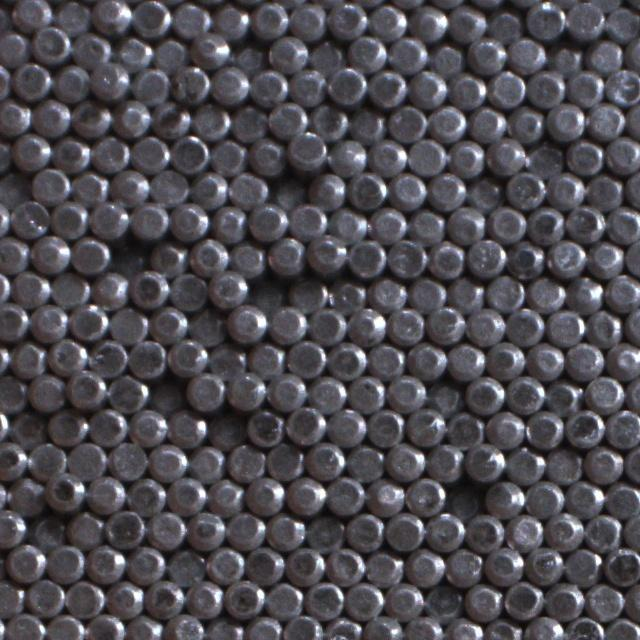tool: (90, 59, 130, 100), (307, 233, 347, 274), (483, 545, 523, 585), (130, 132, 170, 172), (126, 544, 166, 584), (106, 508, 146, 548), (108, 372, 148, 412), (424, 440, 464, 480), (502, 580, 542, 620), (326, 64, 366, 104), (66, 368, 106, 408), (225, 369, 265, 409), (168, 270, 208, 310), (69, 300, 109, 340), (484, 477, 524, 517), (46, 470, 85, 511), (466, 236, 505, 276), (128, 407, 168, 446), (564, 407, 604, 446), (7, 541, 46, 581), (405, 546, 444, 586), (109, 304, 148, 344), (406, 406, 445, 446), (286, 404, 325, 444), (465, 511, 504, 551), (328, 136, 367, 176), (524, 545, 564, 584), (465, 442, 504, 482), (70, 235, 110, 274), (88, 406, 127, 446), (526, 205, 566, 244), (266, 511, 305, 551), (525, 408, 564, 448), (32, 24, 71, 64), (304, 580, 343, 620), (245, 407, 285, 446), (584, 372, 624, 411), (285, 475, 325, 514), (464, 374, 504, 413), (31, 96, 70, 136), (347, 170, 387, 209), (26, 576, 65, 616), (365, 476, 404, 516), (308, 303, 347, 343), (326, 474, 365, 514), (145, 578, 184, 618), (184, 578, 223, 618), (346, 373, 386, 412), (505, 168, 544, 208), (27, 370, 66, 410), (128, 338, 168, 377), (225, 577, 264, 617), (126, 475, 166, 514), (309, 100, 348, 140), (404, 475, 444, 514), (446, 409, 485, 449), (168, 201, 208, 240), (64, 579, 104, 618), (446, 4, 485, 44), (245, 545, 285, 584), (5, 475, 45, 514), (387, 238, 426, 277), (385, 441, 424, 480), (227, 303, 266, 342), (487, 203, 526, 242), (287, 337, 326, 376), (385, 511, 424, 550), (30, 233, 69, 272), (225, 509, 264, 548), (229, 103, 268, 142), (327, 406, 366, 445), (208, 267, 247, 306), (526, 67, 565, 106), (226, 442, 265, 481), (408, 67, 447, 106), (486, 409, 525, 448), (288, 131, 327, 170), (426, 304, 465, 343), (327, 0, 366, 39), (326, 340, 365, 379), (367, 67, 406, 106), (51, 62, 90, 101), (147, 509, 186, 548), (348, 238, 387, 277), (248, 201, 287, 240), (47, 407, 86, 446), (348, 33, 387, 72), (171, 134, 210, 173), (129, 268, 168, 307), (249, 66, 288, 105), (565, 478, 604, 517), (505, 374, 544, 413), (86, 473, 125, 512), (307, 170, 346, 209), (343, 580, 382, 619), (29, 300, 68, 339), (544, 582, 583, 621), (246, 340, 285, 379), (71, 98, 110, 137), (89, 337, 128, 376), (464, 306, 504, 344), (12, 59, 50, 99), (584, 444, 622, 484), (132, 64, 170, 104), (444, 546, 482, 586), (426, 511, 464, 551), (586, 238, 624, 278), (546, 236, 584, 276), (366, 340, 404, 380), (486, 339, 524, 379), (267, 235, 305, 275), (172, 63, 210, 103), (306, 439, 344, 479), (368, 136, 406, 176), (346, 510, 384, 550), (385, 580, 423, 620), (244, 474, 282, 514), (150, 166, 188, 206), (506, 238, 544, 278), (68, 439, 106, 479), (266, 440, 304, 480), (328, 274, 368, 312), (28, 440, 66, 480), (564, 545, 602, 584), (566, 66, 604, 105), (86, 543, 124, 582), (32, 164, 70, 203), (467, 34, 505, 73), (366, 408, 404, 447), (388, 103, 426, 142), (365, 547, 403, 586), (565, 340, 603, 379), (210, 64, 248, 103), (388, 34, 427, 72), (544, 511, 582, 550), (407, 136, 446, 174), (288, 1, 326, 40), (111, 166, 149, 205), (288, 65, 326, 104), (408, 4, 447, 42), (506, 306, 545, 344), (204, 544, 243, 582), (286, 545, 324, 584), (148, 442, 186, 481), (525, 341, 564, 379), (427, 239, 465, 278), (51, 134, 90, 172), (505, 444, 543, 483), (267, 304, 305, 343), (545, 307, 583, 346), (506, 511, 544, 550), (109, 439, 147, 478), (367, 2, 406, 40), (91, 133, 129, 172), (188, 236, 227, 274), (387, 373, 426, 411), (487, 68, 525, 107), (565, 204, 604, 242), (48, 336, 86, 375), (546, 170, 585, 208), (267, 371, 306, 409), (446, 205, 484, 244), (388, 170, 426, 209), (190, 168, 228, 207), (288, 200, 326, 239), (210, 202, 248, 241), (446, 137, 484, 176), (148, 304, 187, 342), (46, 542, 84, 581), (265, 581, 303, 620), (486, 272, 524, 311), (348, 305, 386, 344), (445, 341, 483, 380), (112, 98, 151, 136), (190, 102, 229, 140), (168, 336, 206, 375), (10, 198, 48, 237), (167, 474, 205, 513), (308, 373, 346, 412), (268, 33, 306, 72), (545, 102, 584, 140), (7, 407, 46, 445), (345, 442, 383, 481), (248, 136, 287, 174), (525, 479, 563, 518), (130, 199, 168, 238), (104, 578, 143, 616), (228, 170, 267, 208), (89, 199, 127, 238), (268, 100, 306, 139), (326, 546, 364, 585), (586, 99, 624, 138), (306, 512, 345, 550), (206, 411, 244, 450), (424, 586, 463, 624), (148, 240, 187, 278), (151, 100, 190, 138), (207, 342, 246, 380), (109, 238, 148, 276), (603, 545, 640, 585), (468, 104, 506, 142), (507, 104, 545, 142), (90, 268, 128, 306), (428, 104, 466, 142), (11, 268, 49, 306), (407, 340, 445, 378), (544, 446, 582, 484), (487, 136, 525, 174), (464, 582, 502, 620), (506, 34, 544, 72), (209, 136, 247, 174), (565, 137, 603, 175), (8, 338, 46, 376), (167, 409, 205, 447), (66, 509, 104, 547), (585, 582, 623, 620), (526, 0, 564, 38), (584, 512, 622, 550), (427, 171, 465, 209), (486, 5, 524, 43), (586, 306, 624, 344), (565, 274, 603, 312), (114, 32, 152, 70), (229, 238, 267, 276), (448, 70, 486, 108), (526, 274, 564, 312), (585, 170, 623, 208), (191, 29, 229, 67), (50, 198, 88, 236), (172, 0, 210, 38), (348, 105, 386, 143), (566, 0, 604, 38), (50, 270, 88, 308), (70, 167, 108, 205), (250, 0, 288, 38), (408, 274, 446, 312), (544, 376, 582, 414), (546, 38, 584, 76), (166, 548, 204, 586), (28, 512, 66, 550), (444, 482, 482, 520), (187, 509, 224, 548), (368, 206, 407, 243), (187, 371, 224, 410), (328, 205, 367, 242), (72, 31, 111, 68), (132, 0, 171, 37), (287, 277, 326, 314), (604, 134, 640, 174), (188, 444, 225, 482), (388, 306, 425, 344), (12, 131, 49, 169), (187, 306, 224, 344), (211, 1, 249, 38), (447, 274, 484, 312), (152, 35, 190, 72), (206, 475, 243, 513), (308, 41, 346, 78), (148, 376, 185, 414), (526, 140, 563, 178), (604, 272, 640, 311), (604, 65, 640, 104), (52, 0, 92, 35), (586, 36, 623, 73), (408, 206, 445, 243), (370, 274, 407, 311), (426, 378, 463, 415), (466, 174, 503, 211), (229, 39, 267, 75), (249, 276, 287, 312), (270, 174, 308, 210), (605, 408, 640, 447), (604, 481, 640, 518), (427, 40, 464, 76), (604, 4, 640, 41), (606, 340, 640, 379), (92, 0, 131, 34), (605, 205, 640, 242), (11, 0, 50, 31), (0, 97, 30, 136), (6, 610, 44, 640), (0, 28, 30, 66), (46, 611, 85, 640), (0, 169, 29, 207), (164, 612, 203, 640), (0, 234, 28, 273), (0, 301, 27, 341), (0, 440, 27, 480), (86, 612, 124, 640), (363, 613, 402, 640), (125, 613, 164, 640), (524, 614, 564, 640), (284, 613, 322, 640), (0, 372, 27, 410), (403, 614, 442, 640), (244, 614, 282, 640), (444, 614, 482, 640), (483, 615, 522, 640), (205, 615, 244, 640), (323, 615, 362, 640), (564, 616, 604, 640), (0, 508, 25, 546), (0, 578, 24, 616), (604, 616, 640, 640), (623, 442, 640, 482)
